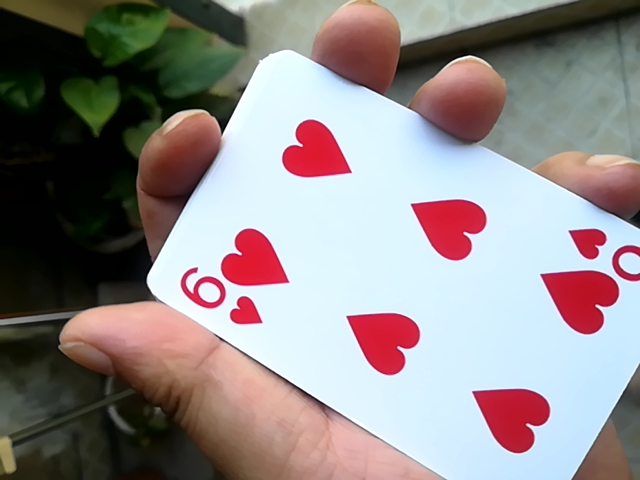hx 6: (127, 48, 640, 480)
